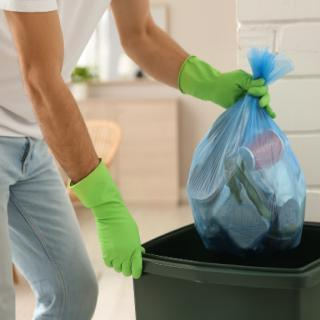Garbage: (184, 44, 311, 260)
